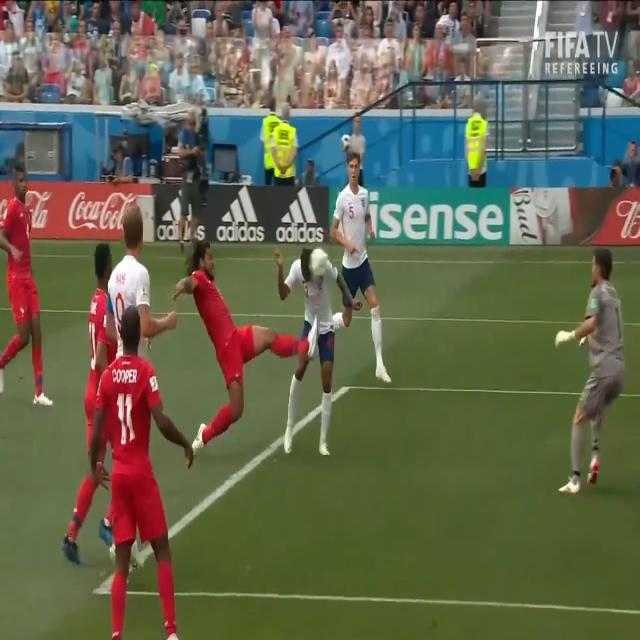ball: (312, 245, 328, 283)
player: (92, 315, 195, 640), (178, 238, 320, 452), (275, 234, 364, 458), (63, 235, 118, 563), (0, 148, 56, 414), (338, 151, 395, 392), (114, 199, 178, 354)
